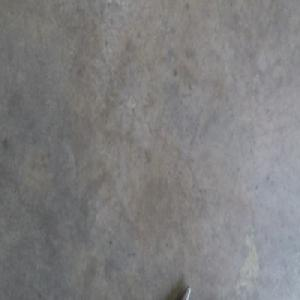Pliers: (183, 286, 194, 299)
